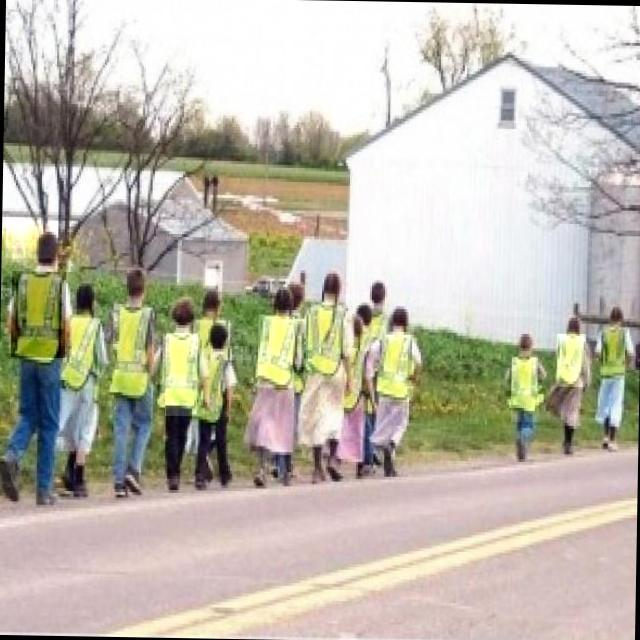Person: (0, 194, 71, 540), (67, 268, 115, 520), (114, 259, 159, 511), (372, 302, 431, 479), (249, 284, 296, 484), (161, 291, 200, 513), (311, 259, 348, 481), (551, 306, 598, 468), (599, 292, 640, 467), (199, 325, 239, 495), (505, 324, 547, 468)
Safety Boot: (1, 450, 32, 505), (126, 466, 148, 495), (34, 486, 56, 510), (328, 459, 350, 483), (113, 481, 128, 500), (311, 462, 326, 480)
Safety Vest: (11, 271, 66, 358), (109, 303, 150, 393), (372, 325, 414, 402), (303, 307, 346, 377), (164, 333, 198, 418), (257, 314, 294, 389), (69, 315, 98, 389), (511, 358, 540, 422), (556, 334, 586, 388), (601, 330, 624, 380)
no-helmet: (32, 229, 59, 257), (73, 280, 100, 305), (173, 296, 197, 318), (125, 266, 146, 291), (322, 266, 341, 286), (275, 285, 293, 303), (207, 325, 226, 342), (203, 289, 224, 304), (357, 302, 376, 318), (369, 279, 390, 292), (391, 304, 411, 316), (564, 315, 584, 326), (607, 304, 625, 315), (517, 332, 533, 342)
